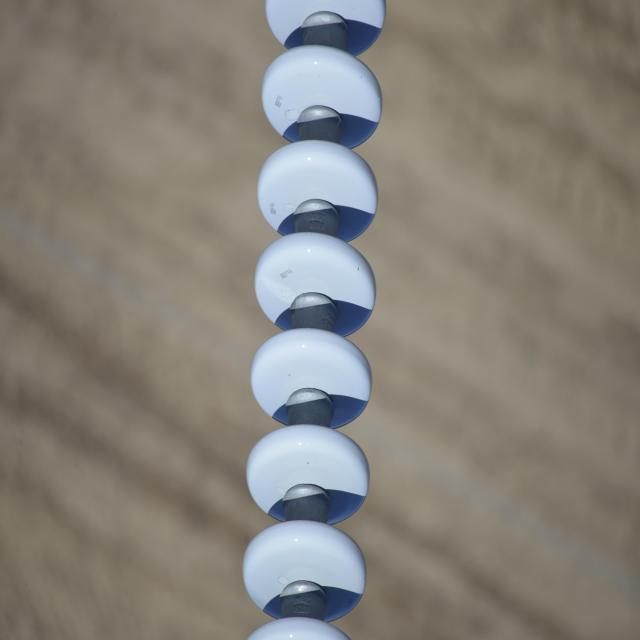insulator: (243, 3, 389, 640)
